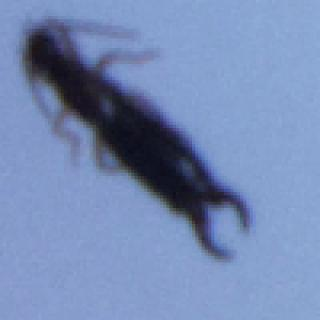earwig: (21, 15, 252, 264)
